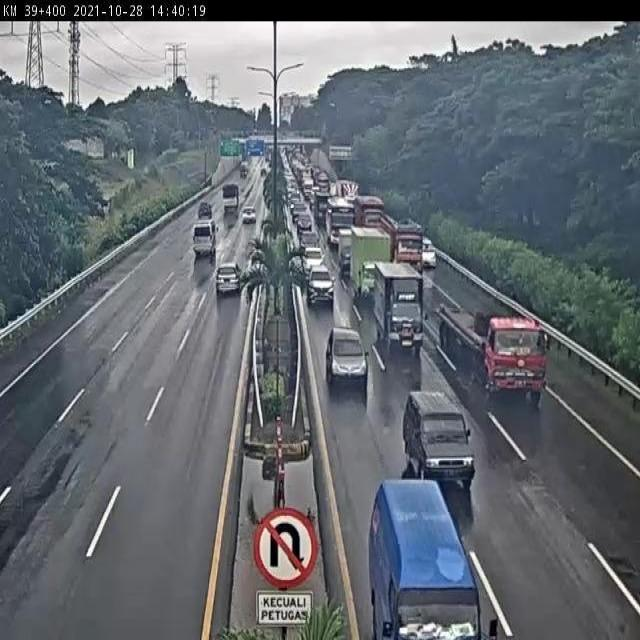Car: (401, 389, 475, 488), (324, 326, 368, 394), (306, 266, 334, 308), (192, 219, 217, 259), (215, 262, 243, 295), (301, 245, 325, 278), (299, 230, 319, 258), (421, 238, 437, 269), (339, 243, 351, 279), (198, 201, 213, 219), (242, 207, 256, 224), (240, 163, 248, 178)
Truck: (436, 301, 546, 404), (368, 259, 422, 363), (348, 225, 391, 302), (325, 196, 354, 247)
Van: (358, 473, 494, 640)
